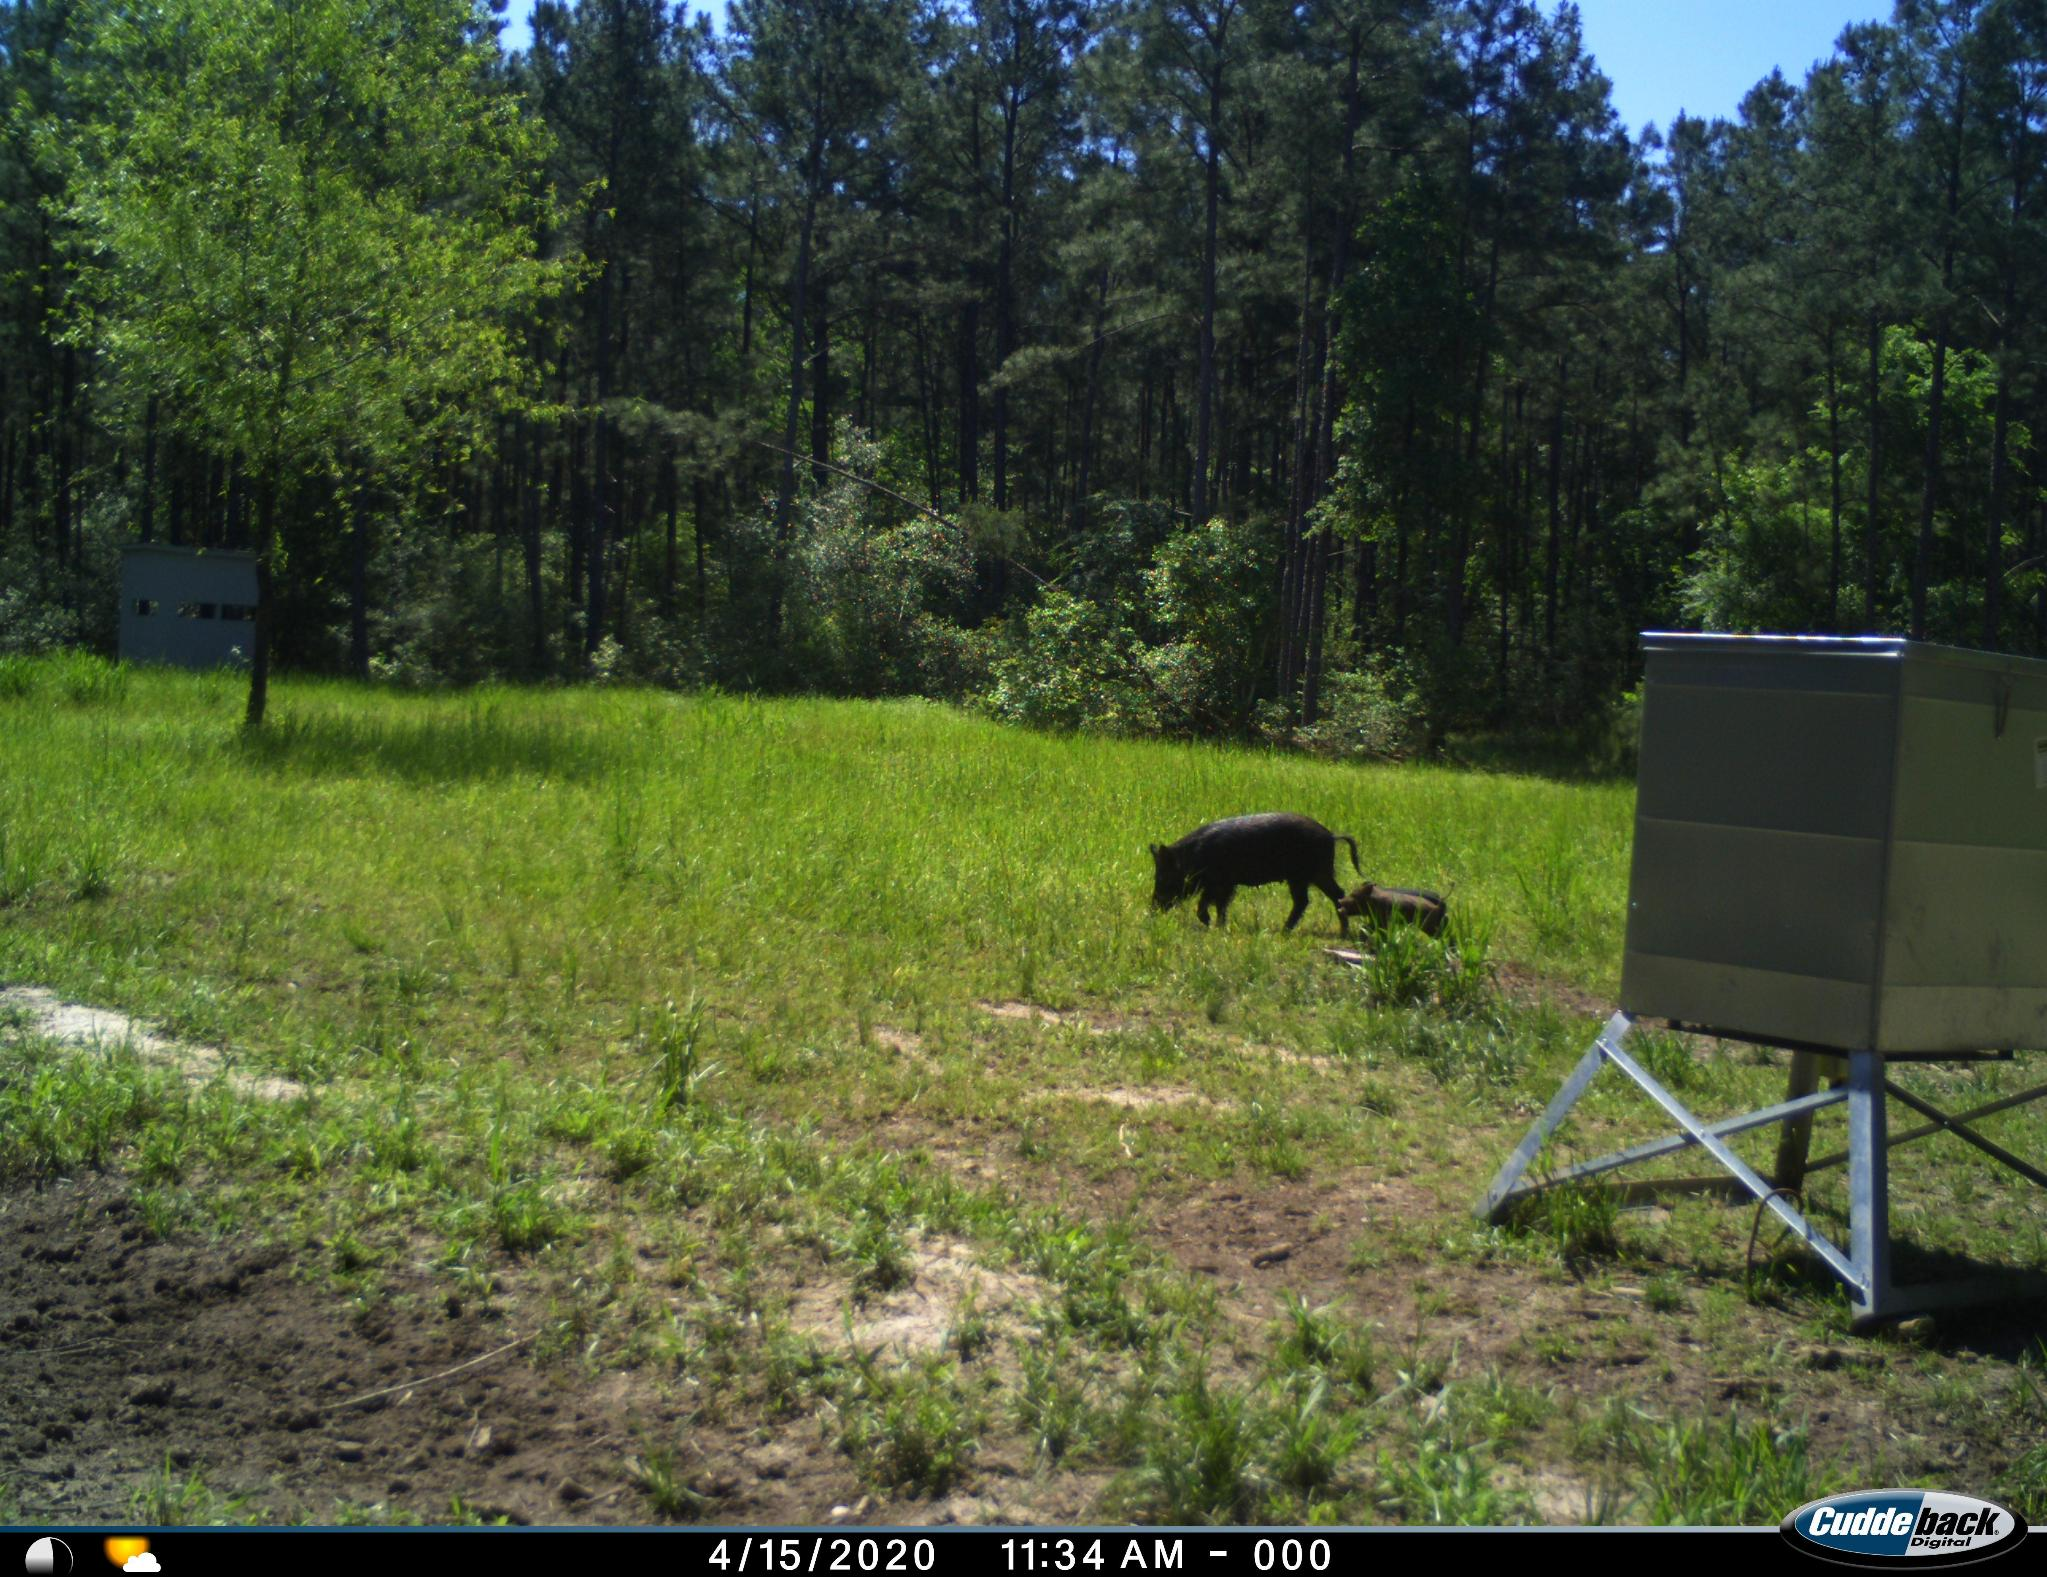Hog: (1136, 805, 1360, 939), (1333, 876, 1451, 944)
